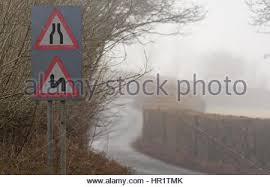Double_bend_left: (31, 55, 81, 97)
